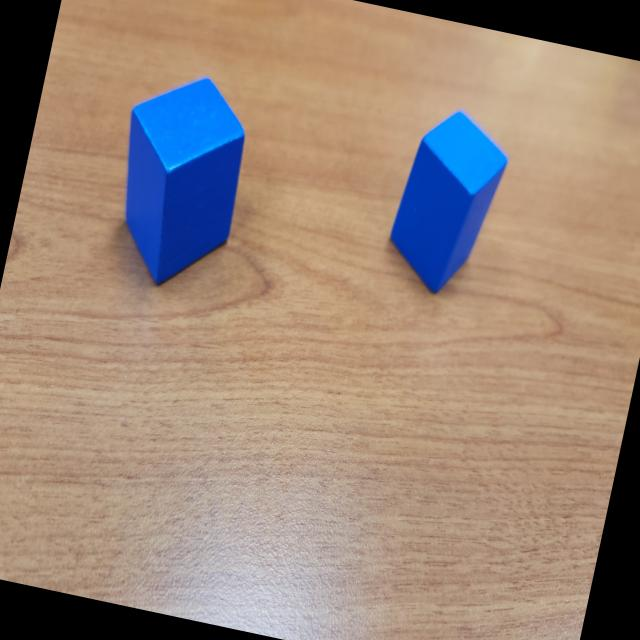blue: (95, 61, 262, 297), (378, 99, 517, 305)
